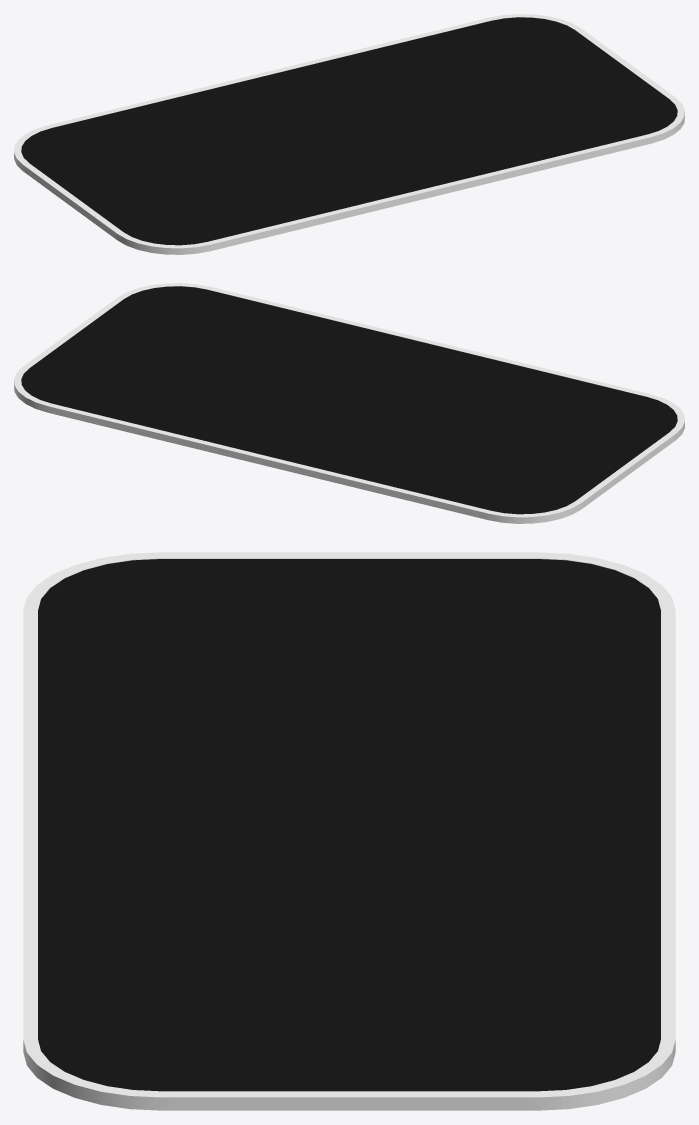
Rendered from Carpet.fbx.
3 views of the same model, one above another, from view 1: azimuth 30°, elevation 25°; view 2: azimuth 150°, elevation 25°; view 3: azimuth 270°, elevation 25° (orthographic). The views are drawn at different scales.
Visible parts, largest first — view 1: Carpet; view 2: Carpet; view 3: Carpet.
Boxes of the visible parts, bbox=[...] form: Carpet: bbox=[14, 14, 684, 254]; Carpet: bbox=[14, 283, 684, 523]; Carpet: bbox=[23, 552, 675, 1110].
Bounding box in the file's own units: 16.18 × 0.1824 × 8.18.
